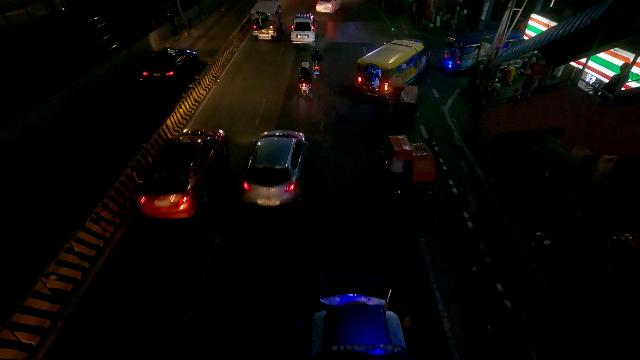car: (137, 128, 229, 218), (243, 130, 307, 206), (138, 46, 203, 85), (291, 12, 317, 44), (316, 0, 340, 14)
jeepney: (359, 38, 425, 103), (249, 1, 281, 40)
motorcycle: (298, 61, 312, 95), (311, 46, 323, 77)
